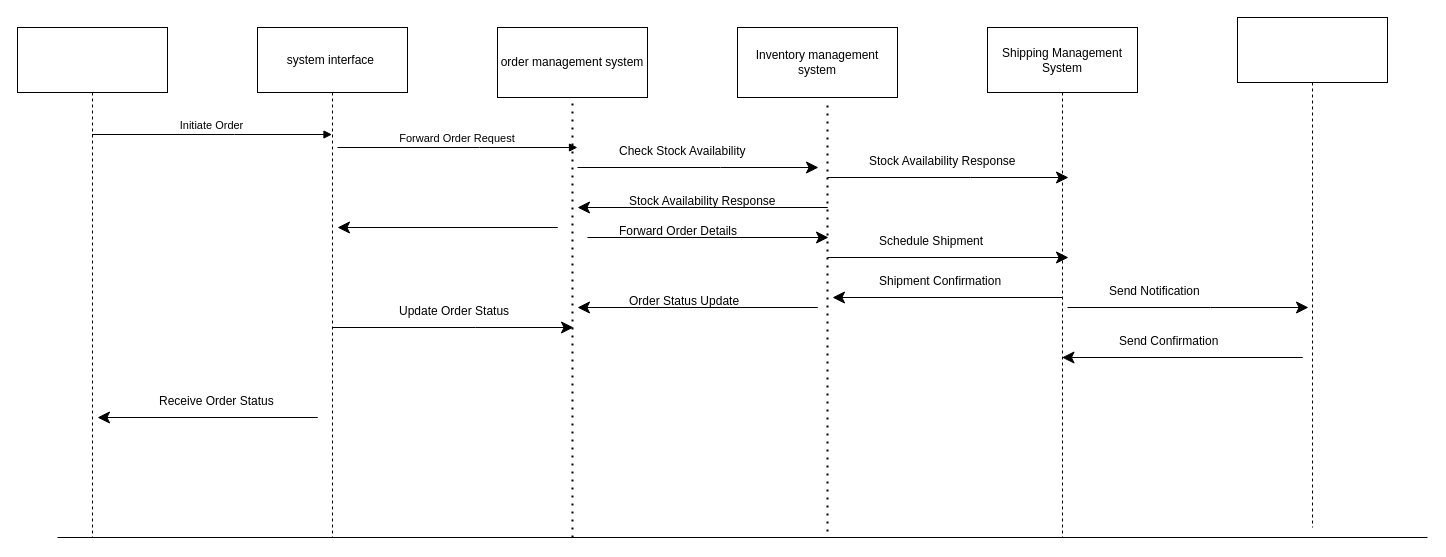
The diagram is 1446 pixels wide and 557 high, and some of its shapes have lost their labels. Each missing label, with the box of its shape:
Notification Service: (1236, 16, 1388, 528)
user: (16, 26, 168, 538)
